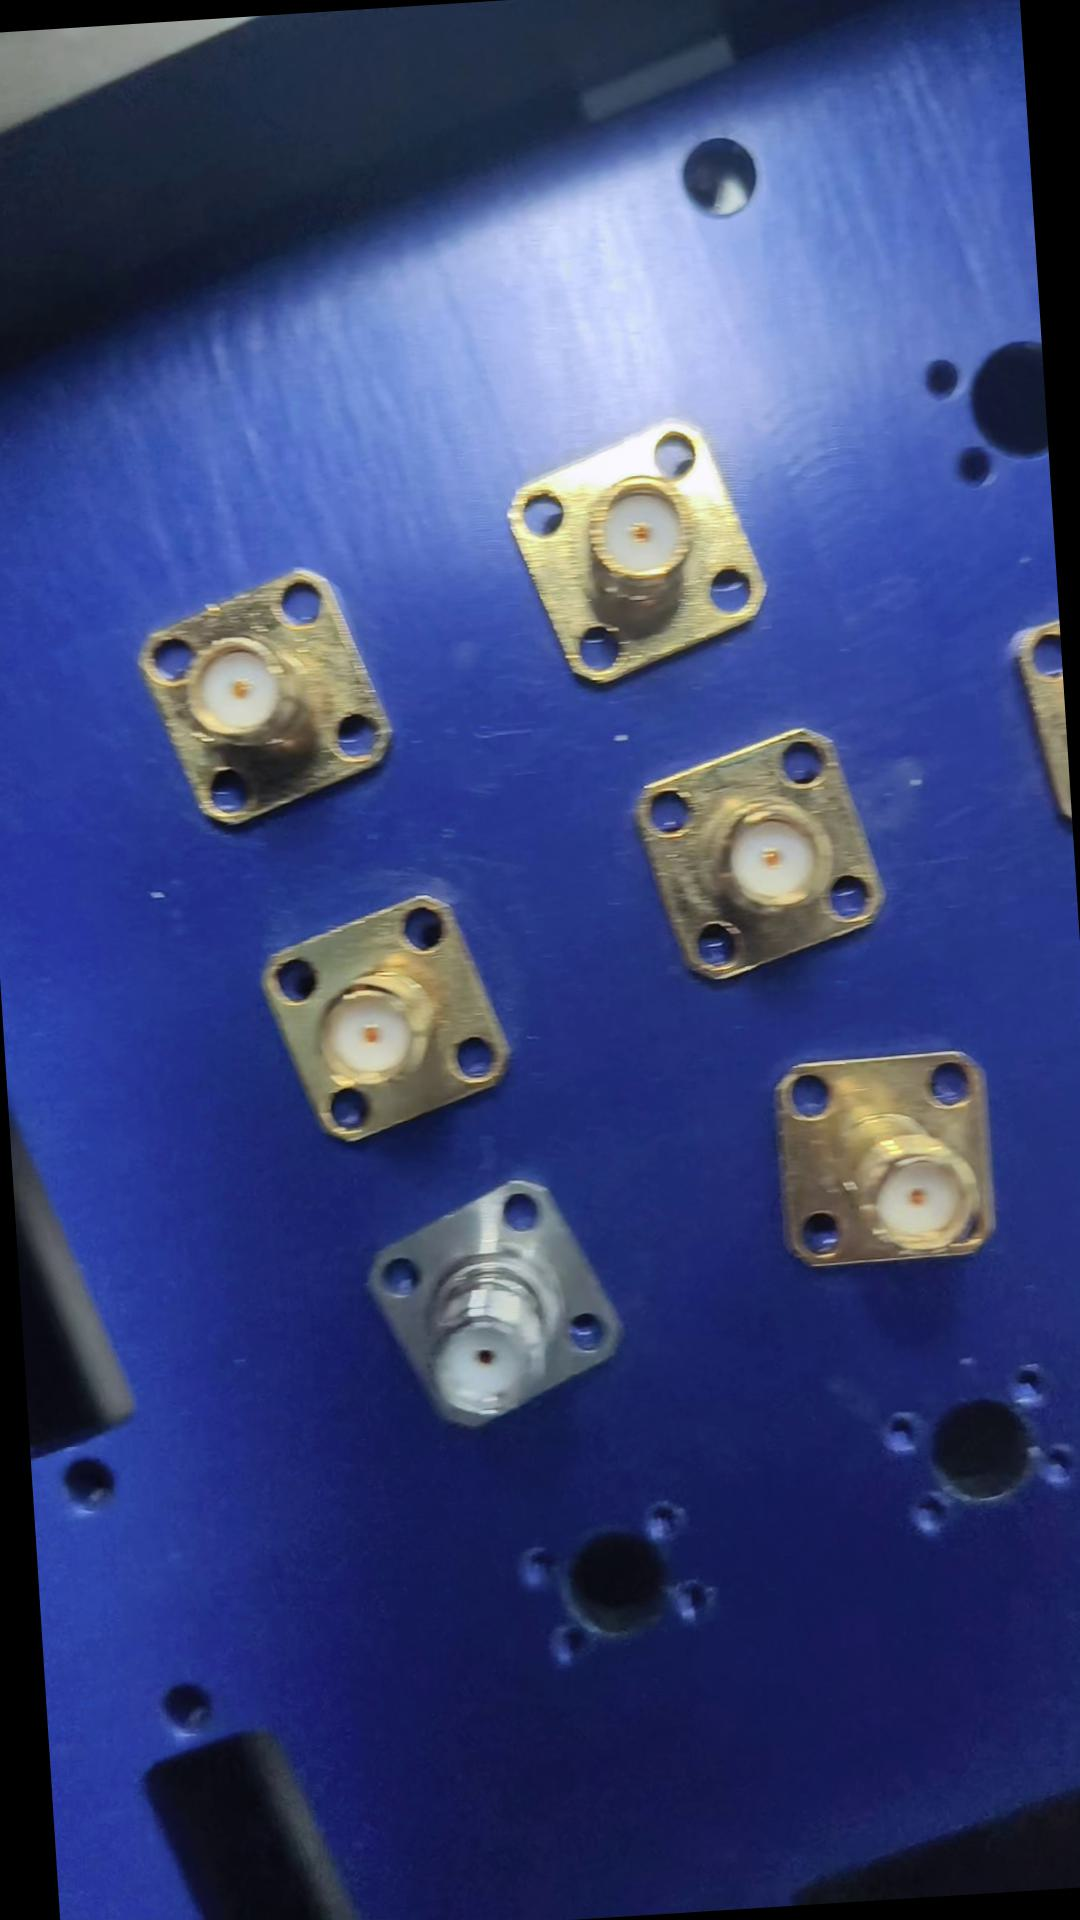SMA: (497, 410, 777, 691), (125, 559, 400, 831), (365, 1174, 634, 1441), (633, 723, 894, 992), (262, 889, 524, 1149), (771, 1040, 1007, 1276)
